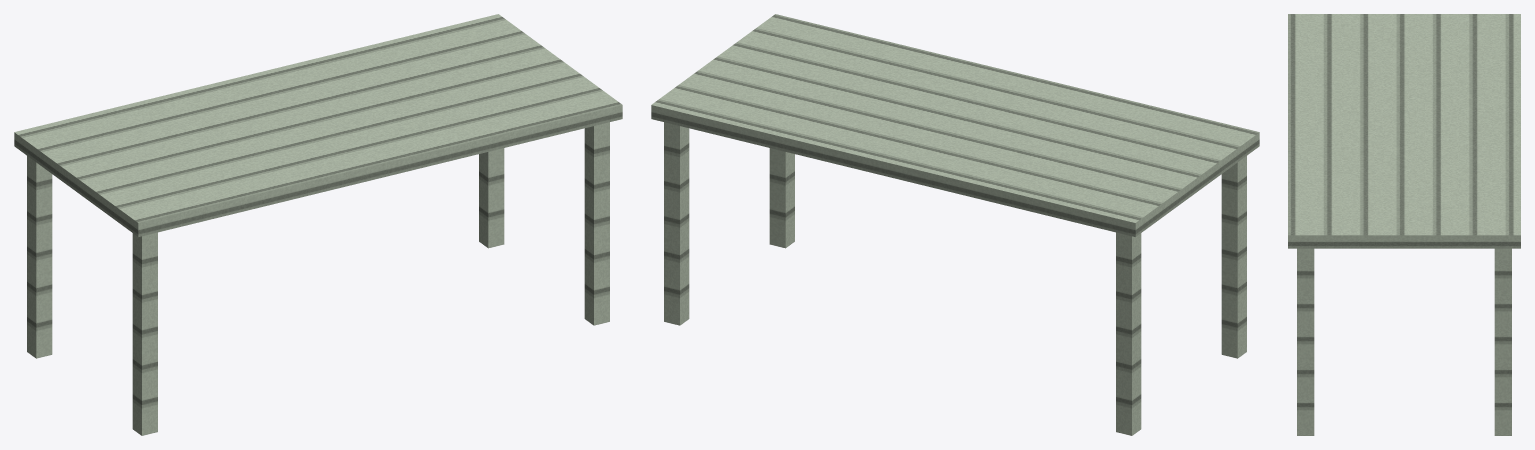
The model's file is counsel_table.glb.
3 views of the same model, side by side, from view 1: azimuth 30°, elevation 25°; view 2: azimuth 150°, elevation 25°; view 3: azimuth 270°, elevation 25° (orthographic). The views are drawn at different scales.
Parts seen in each view (by area): view 1: counsel_table-col; view 2: counsel_table-col; view 3: counsel_table-col.
Boxes of the visible parts, <box> form: counsel_table-col: <box>14,14,622,435</box>; counsel_table-col: <box>651,14,1259,435</box>; counsel_table-col: <box>1288,14,1520,435</box>.
Size of the model in its own units: 1.8 by 0.775 by 0.8.
1 material, 1 textured.
